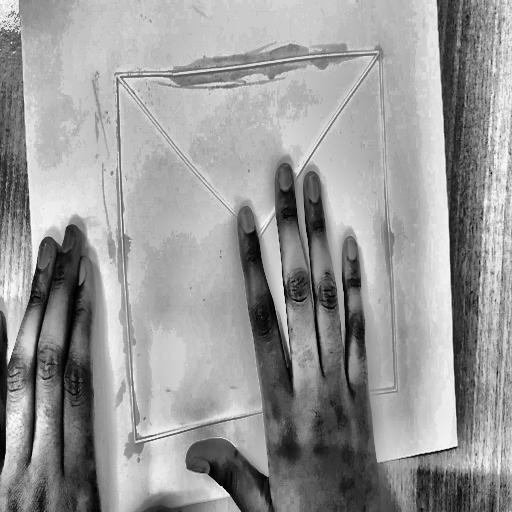bottom_right: (451, 435, 463, 455)
envelop: (108, 41, 409, 453)
